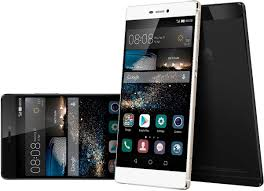huawei: (109, 2, 202, 188), (1, 91, 113, 179)
